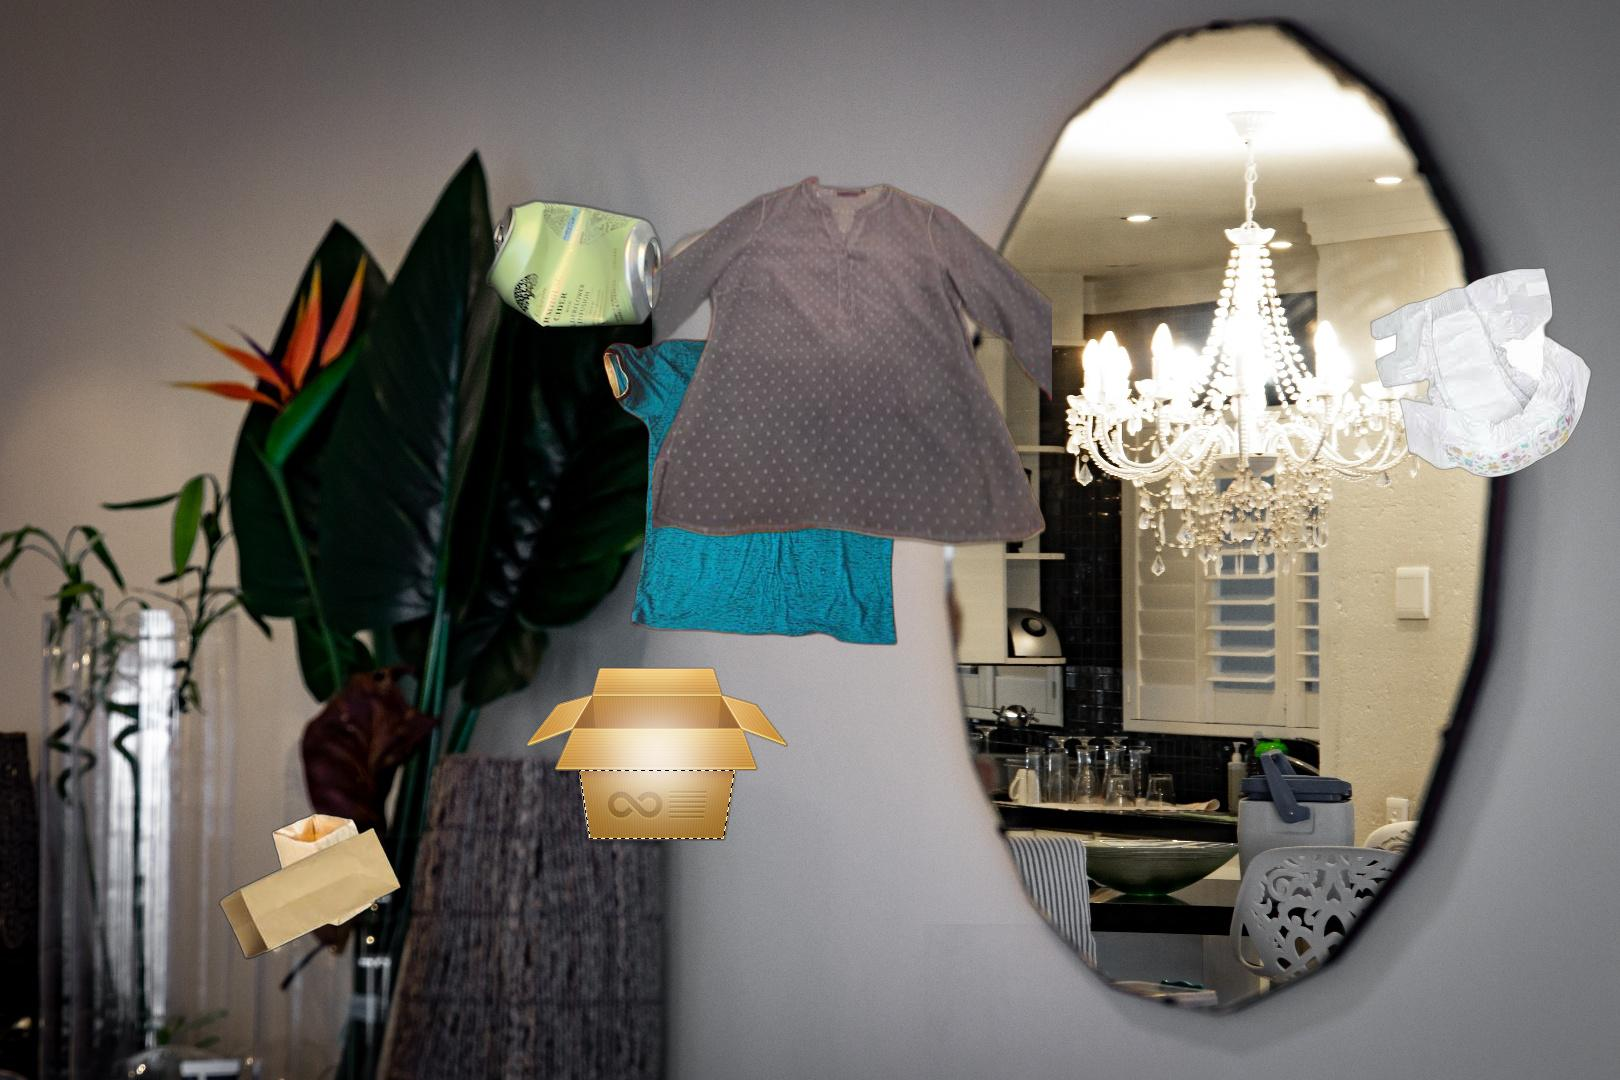clothes: (652, 170, 1052, 558), (599, 333, 968, 648)
metal-cans: (480, 194, 668, 337)
paper-bag: (925, 925, 1223, 1080), (216, 811, 403, 962)
trash: (1368, 265, 1593, 485)
trashbox-cardboard: (526, 665, 790, 843)
